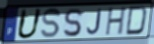D: (124, 5, 149, 36)
H: (104, 6, 127, 37)
J: (86, 8, 103, 36)
S: (40, 7, 62, 39), (62, 7, 83, 38)
U: (15, 8, 44, 40)
